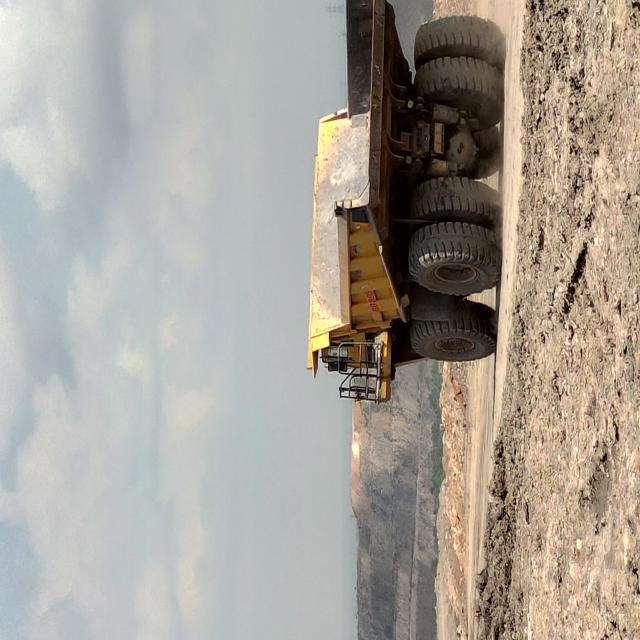dump_truck: (178, 409, 480, 640)
